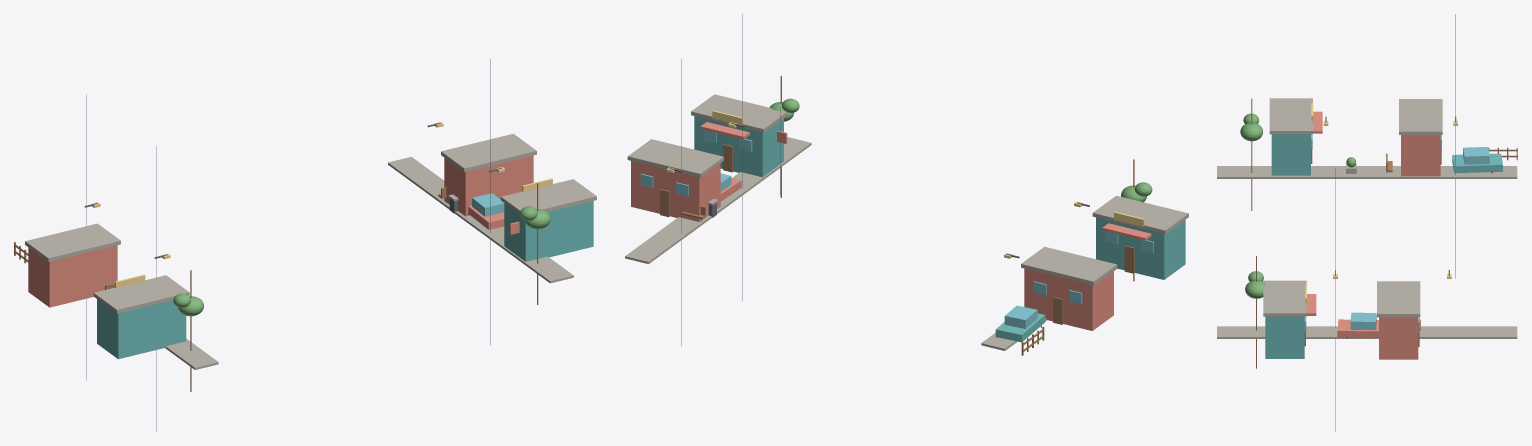
The model's file is yun_street_block_calle_v1.glb.
3 views of the same model, side by side, from view 1: azimuth 30°, elevation 25°; view 2: azimuth 150°, elevation 25°; view 3: azimuth 270°, elevation 25° (orthographic). The views are drawn at different scales.
Parts seen in each view (by area): view 1: house_left__body, shop_left__body, shop_right__body, house_right__body, sidewalk_right__strip, house_right__roof, house_left__roof, shop_left__roof, shop_right__roof, sidewalk_left__strip, car_right_coral__cabin; view 2: house_left__body, house_right__body, shop_left__body, shop_right__body, sidewalk_right__strip, house_left__roof, house_right__roof, shop_left__roof, shop_right__roof, car_left_blue__chassis, car_left_blue__cabin; view 3: sidewalk_left__strip, sidewalk_right__strip, house_right__body, shop_right__body, house_left__body, shop_left__body, house_right__roof, shop_left__roof, shop_right__roof, house_left__roof, car_left_blue__chassis, car_right_coral__chassis (+4 smaller).
Part boxes in pixels (x1,y1,x2,y2): house_left__body: (28,245,117,307); shop_left__body: (97,299,186,359); shop_right__body: (504,201,593,261); house_right__body: (444,155,533,216); sidewalk_right__strip: (388,156,573,283); house_right__roof: (441,133,536,172); house_left__roof: (25,223,120,261); shop_left__roof: (93,275,189,313); shop_right__roof: (501,179,596,213); sidewalk_left__strip: (165,338,218,369); car_right_coral__cabin: (472,193,504,216); house_left__body: (1024,268,1113,330); house_right__body: (631,161,720,221); shop_left__body: (1096,217,1185,279); shop_right__body: (694,116,783,177); sidewalk_right__strip: (625,137,811,263); house_left__roof: (1021,246,1117,285); house_right__roof: (627,139,723,177); shop_left__roof: (1092,195,1188,234); shop_right__roof: (691,94,787,132); car_left_blue__chassis: (995,313,1045,342); car_left_blue__cabin: (1004,305,1037,328); sidewalk_left__strip: (1217,166,1517,178); sidewalk_right__strip: (1217,326,1517,338); house_right__body: (1379,317,1418,359); shop_right__body: (1265,316,1304,358); house_left__body: (1401,135,1440,176); shop_left__body: (1271,134,1310,175); house_right__roof: (1377,281,1420,317); shop_left__roof: (1269,98,1312,134); shop_right__roof: (1263,280,1306,316); house_left__roof: (1399,99,1442,134); car_left_blue__chassis: (1452,153,1502,173); car_right_coral__chassis: (1337,319,1378,338).
Bounding box in the file's own units: 32.3 × 18.49 × 19.05.
